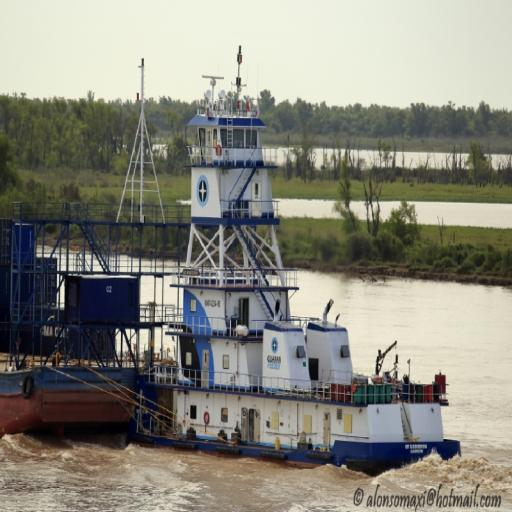tugboat: (133, 73, 468, 482)
